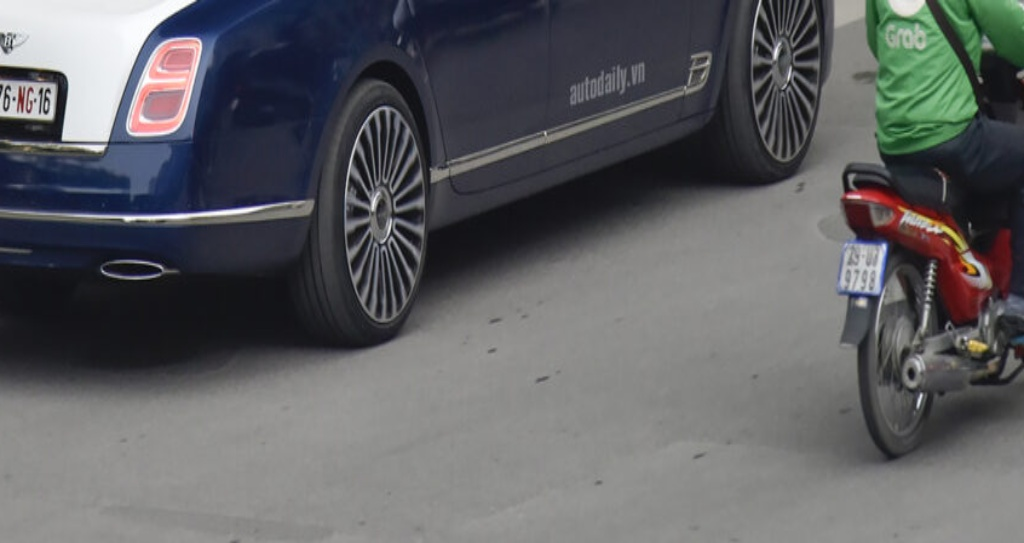plate: (833, 240, 891, 302), (1, 74, 62, 123)
